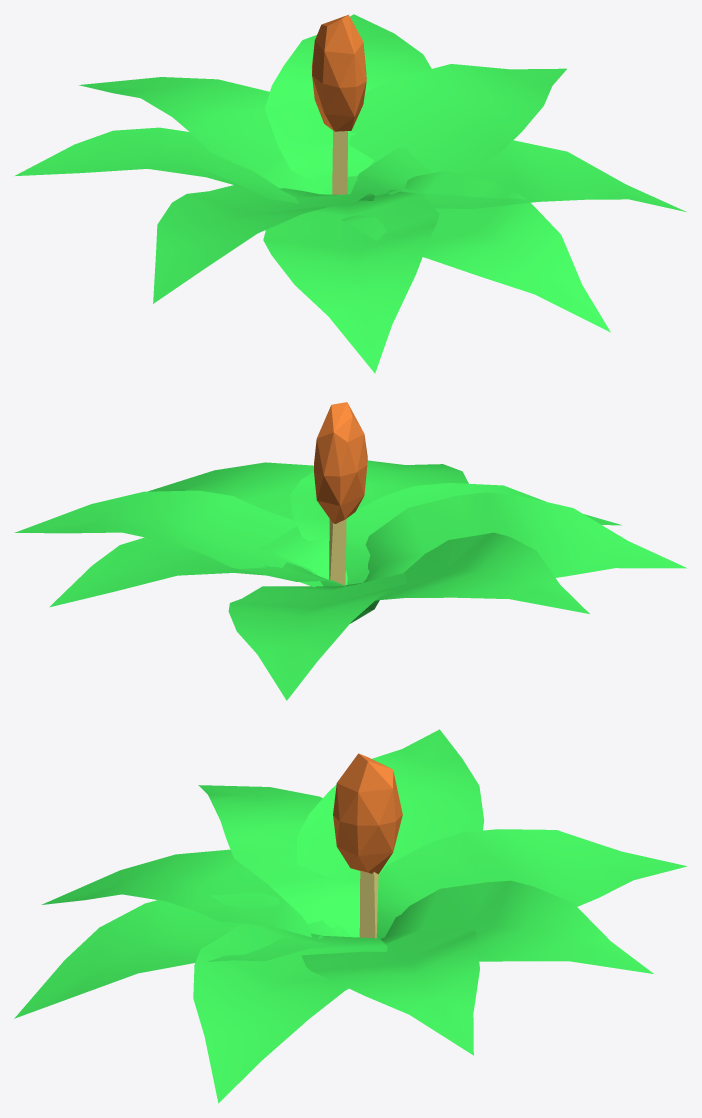
The model's file is plant8.gltf.
3 views of the same model, one above another, from view 1: azimuth 30°, elevation 25°; view 2: azimuth 150°, elevation 25°; view 3: azimuth 270°, elevation 25° (orthographic). The views are drawn at different scales.
Parts seen in each view (by area): view 1: BezierCurve.003, BezierCurve.000, BezierCurve.002, BezierCurve.006, BezierCurve.001, BezierCurve.009, BezierCurve.004, BezierCurve.005, Icosphere, Cylinder; view 2: BezierCurve.004, BezierCurve.000, BezierCurve.006, BezierCurve.005, BezierCurve.009, BezierCurve.001, Icosphere, BezierCurve.003, BezierCurve.002, Cylinder; view 3: BezierCurve.001, BezierCurve.006, BezierCurve.009, BezierCurve.002, BezierCurve.000, BezierCurve.005, BezierCurve.004, BezierCurve.003, Icosphere, Cylinder.
Boxes of the visible parts, <box> form: BezierCurve.003: <box>263,191,439,373</box>; BezierCurve.000: <box>347,64,566,194</box>; BezierCurve.002: <box>341,171,610,332</box>; BezierCurve.006: <box>78,77,325,194</box>; BezierCurve.001: <box>351,140,686,211</box>; BezierCurve.009: <box>265,14,431,194</box>; BezierCurve.004: <box>153,185,374,303</box>; BezierCurve.005: <box>14,127,299,203</box>; Icosphere: <box>311,14,366,131</box>; Cylinder: <box>332,130,347,194</box>; BezierCurve.004: <box>363,492,686,582</box>; BezierCurve.000: <box>14,490,323,587</box>; BezierCurve.006: <box>228,573,407,700</box>; BezierCurve.005: <box>350,532,589,623</box>; BezierCurve.009: <box>49,537,346,607</box>; BezierCurve.001: <box>148,462,371,584</box>; Icosphere: <box>314,402,367,523</box>; BezierCurve.003: <box>346,483,621,584</box>; BezierCurve.002: <box>290,460,468,540</box>; Cylinder: <box>329,519,346,585</box>; BezierCurve.001: <box>193,923,387,1103</box>; BezierCurve.006: <box>376,829,687,938</box>; BezierCurve.009: <box>381,880,653,973</box>; BezierCurve.002: <box>14,892,330,1018</box>; BezierCurve.000: <box>301,927,479,1055</box>; BezierCurve.005: <box>297,729,484,883</box>; BezierCurve.004: <box>198,785,359,937</box>; BezierCurve.003: <box>41,849,351,937</box>; Icosphere: <box>333,753,402,874</box>; Cylinder: <box>359,871,378,938</box>.
Size of the model in its own units: 6.9 by 2.57 by 6.97.
